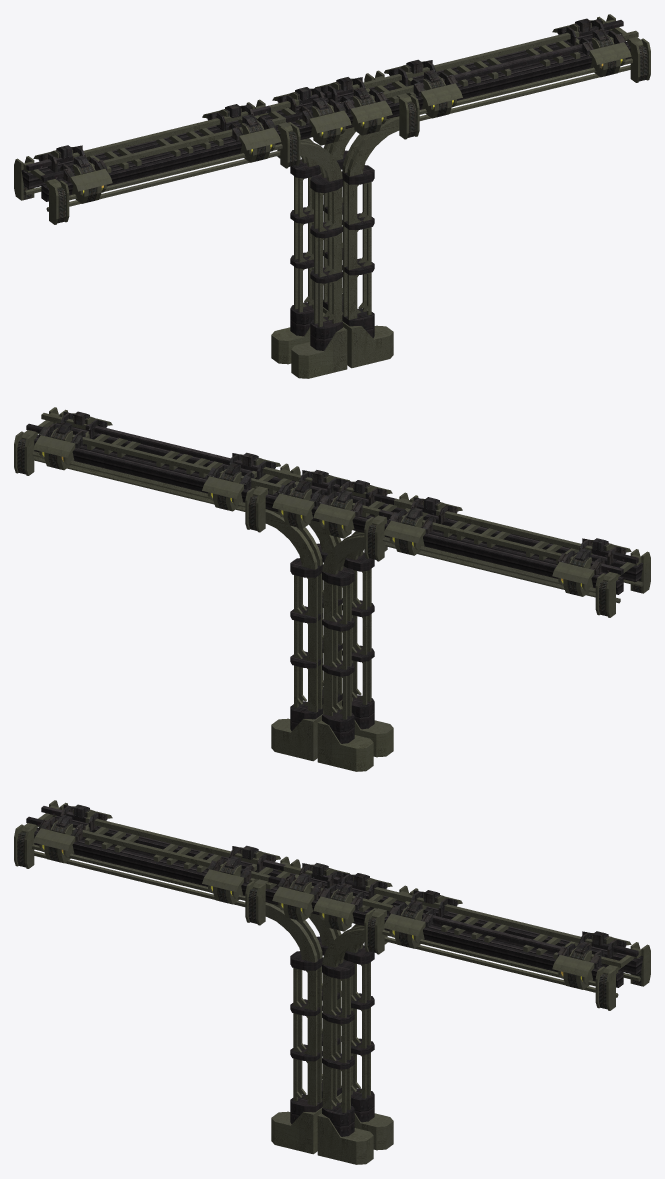
The model's file is bridgeSection1.fbx.
3 views of the same model, one above another, from view 1: azimuth 30°, elevation 25°; view 2: azimuth 150°, elevation 25°; view 3: azimuth 330°, elevation 25° (orthographic).
Parts seen in each view (by area): view 1: Object; view 2: Object; view 3: Object.
Boxes of the visible parts, left/top/right/bottom form: Object: left=14, top=14, right=650, bottom=378; Object: left=14, top=407, right=650, bottom=771; Object: left=14, top=800, right=650, bottom=1164.
Bounding box in the file's own units: 6875 × 2950 × 900.
